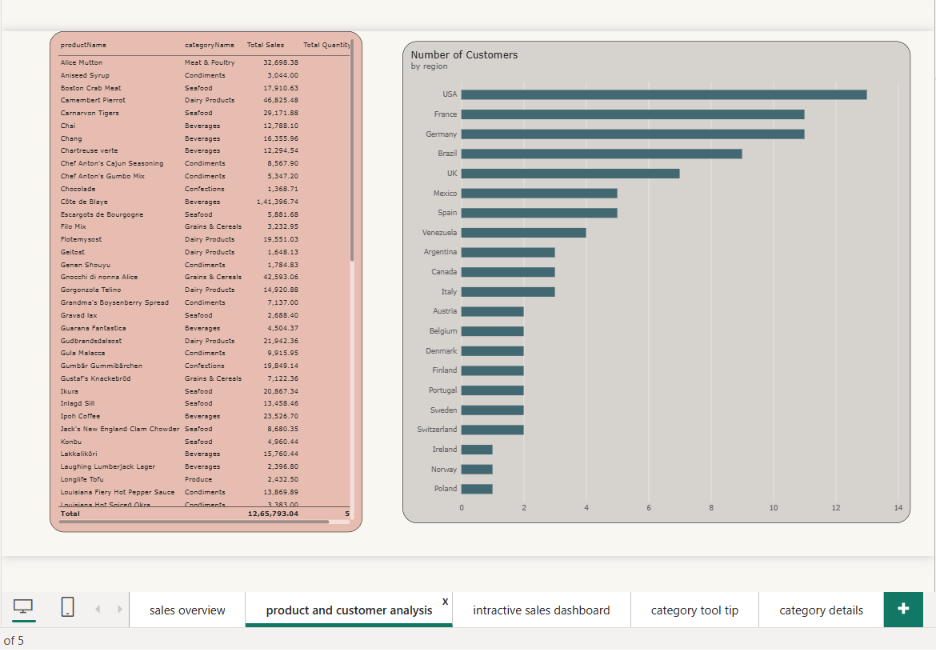

This screenshot's page, from the dashboard's own definition file:
{"tool":"powerbi","page":{"name":"product and customer analysis","canvas":[1920,1080],"ordinal":1},"visuals":[{"type":"tableEx","fields":{"Values":["products.productName","categories.categoryName","orders.Total Sales","Order Details.Total Quantity Sold"]},"box":[99.5,0,644.2,1031.5],"z":0},{"type":"clusteredBarChart","fields":{"Y":["customers.Number of Customers"],"Category":["customers.country"]},"box":[825.2,19.9,1046,991.7],"z":1000}]}

Visuals, with their boxes on the page's 1920x1080 design canvas (x1, y1, x2, y2). These are canvas units, not pixel positions in the 936x650 screenshot, which may show the page scaled, cropped or inside an application window:
tableEx - products.productName x categories.categoryName: {"left": 100, "top": 0, "right": 744, "bottom": 1032}
clusteredBarChart - customers.Number of Customers x customers.country: {"left": 825, "top": 20, "right": 1871, "bottom": 1012}
